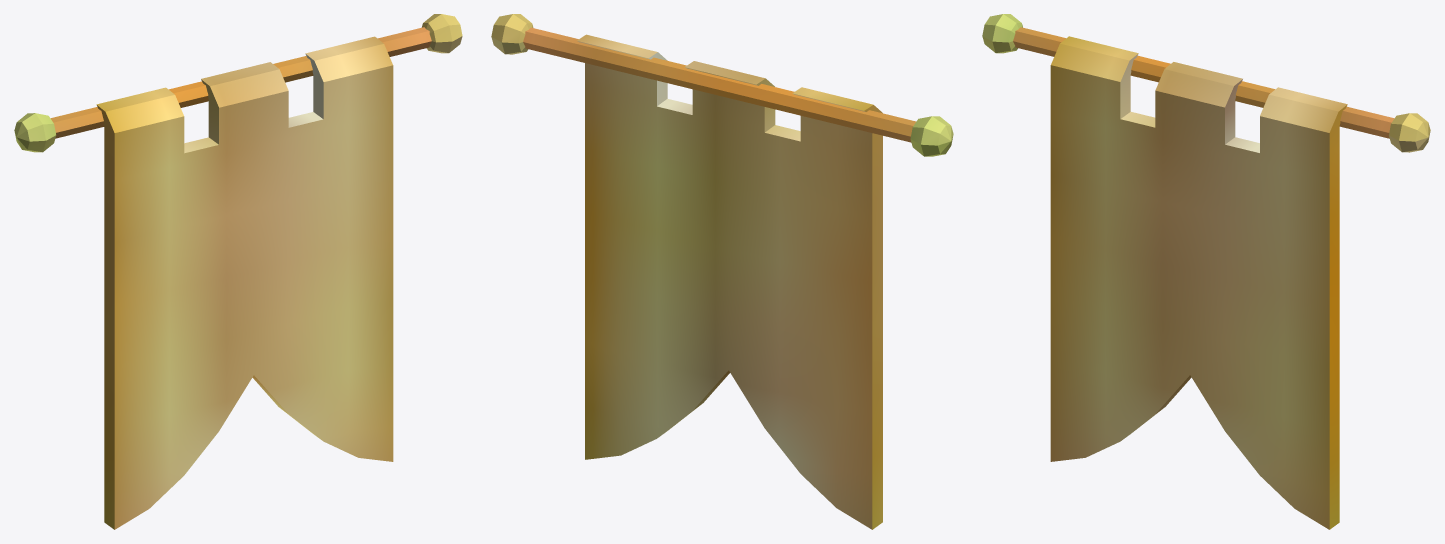
Rendered from mega-pack-cube-021.glb.
3 views of the same model, side by side, from view 1: azimuth 30°, elevation 25°; view 2: azimuth 150°, elevation 25°; view 3: azimuth 330°, elevation 25° (orthographic). The views are drawn at different scales.
Visible parts, largest first — view 1: Cube.021; view 2: Cube.021; view 3: Cube.021.
Boxes of the visible parts, x1=… form: Cube.021: x1=14, y1=14, x2=462, y2=529; Cube.021: x1=491, y1=14, x2=953, y2=529; Cube.021: x1=982, y1=14, x2=1430, y2=529.
Bounding box in the file's own units: 0.8091 × 0.7328 × 0.0843.
Materials: 1 (1 with a texture image).
